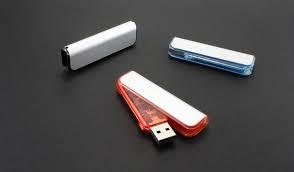Flash-drive: (90, 70, 240, 148)
